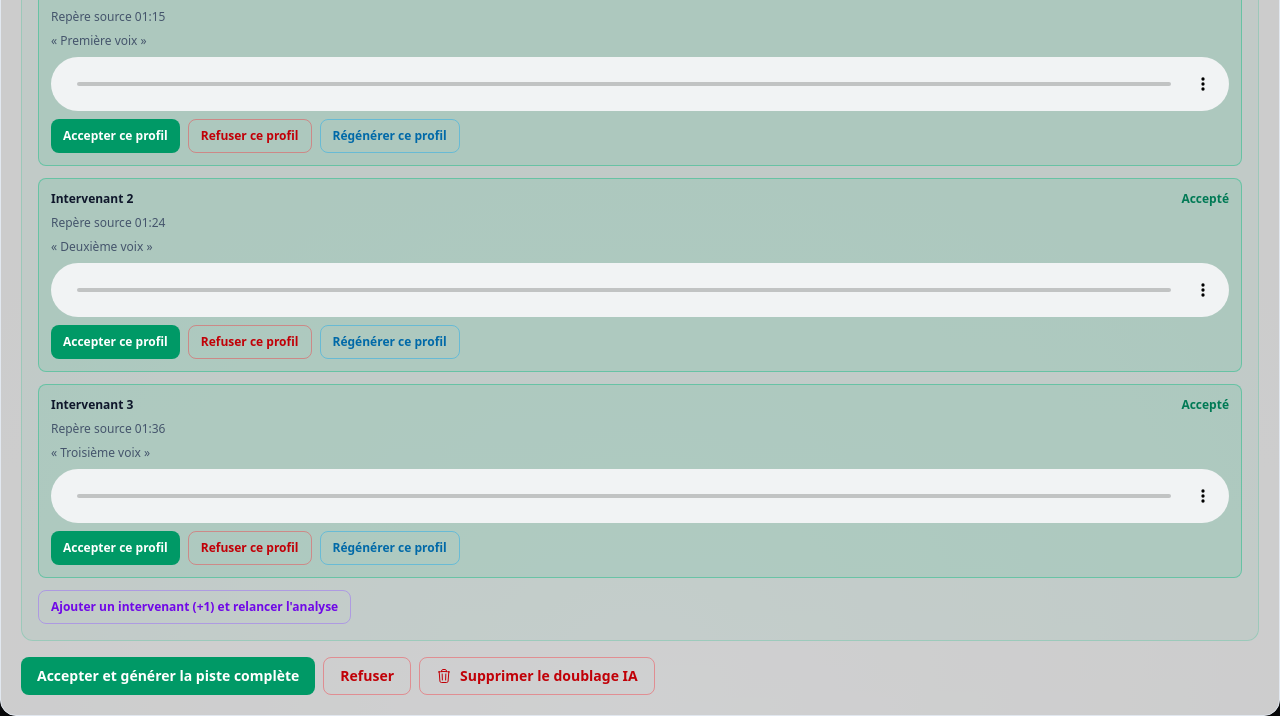
rappelle le caractère synthétique et impose la validation de l'extrait
(page scrolled)
Check: the number of elements named "Échantillon IA de l'intervenant" is 3, box [51,57,1229,111]; [51,263,1229,317]; [51,469,1229,523]
Click the button "Accepter et générer la piste complète": (168, 676) [21,657,315,695]
(page scrolled)
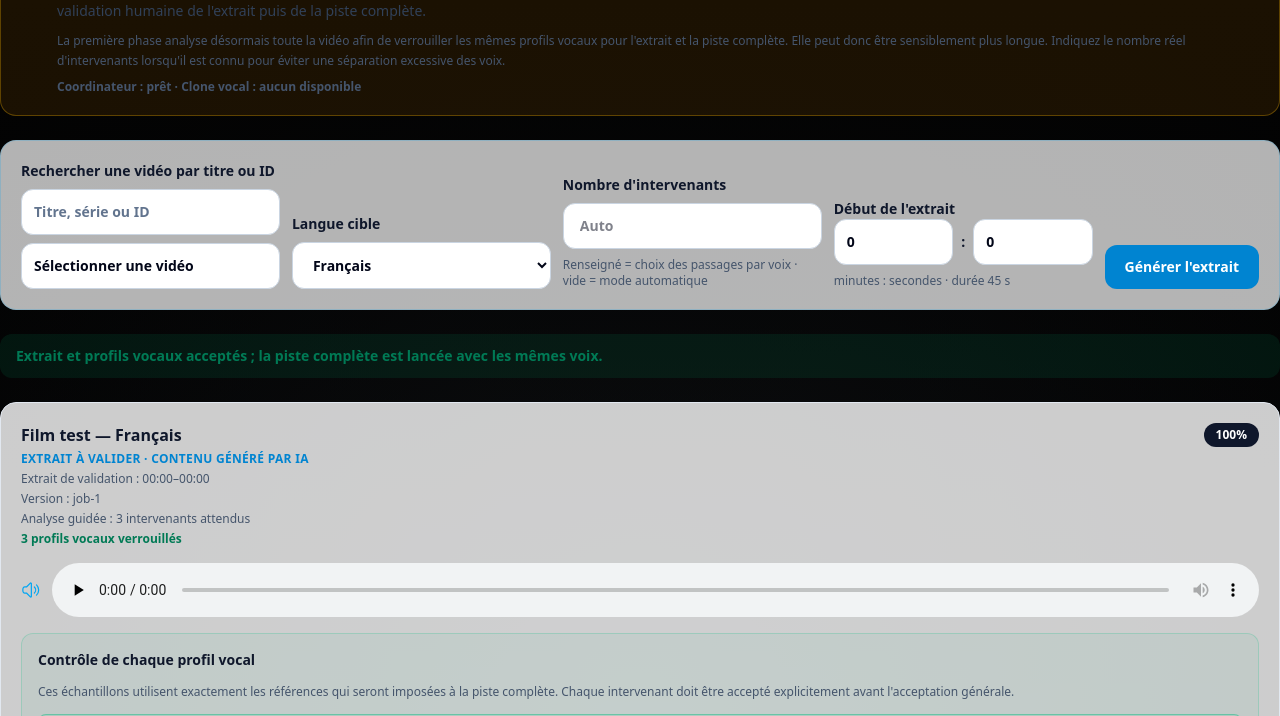
Check: the message shows "profils vocaux acceptés", box [16,346,602,365]
